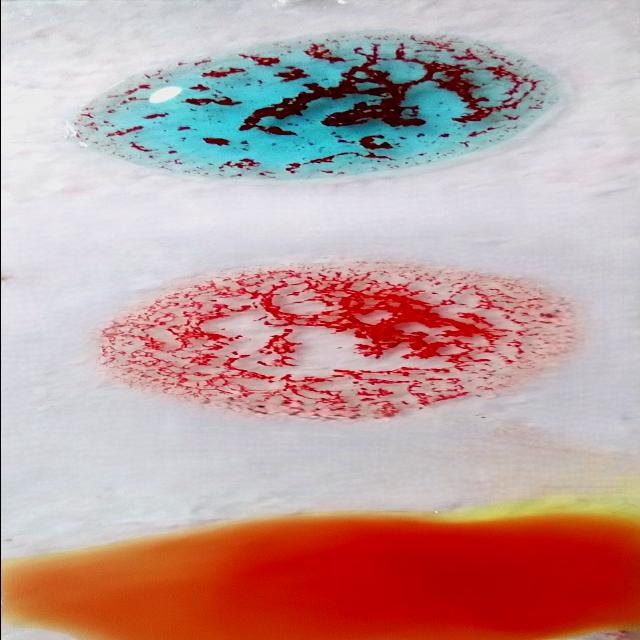A: (76, 34, 560, 180)
D: (114, 264, 572, 412)
